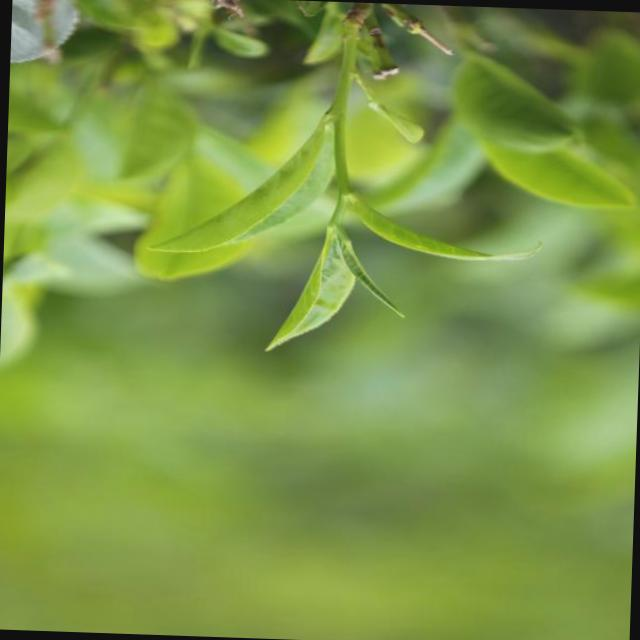Stem: (337, 183, 349, 198)
